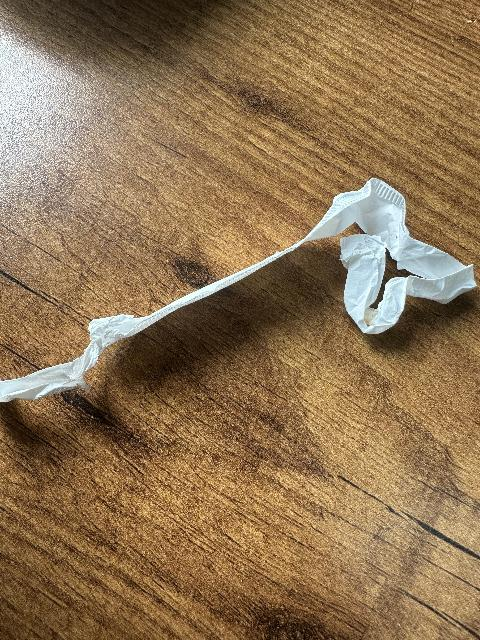Kagit: (0, 178, 480, 424)
